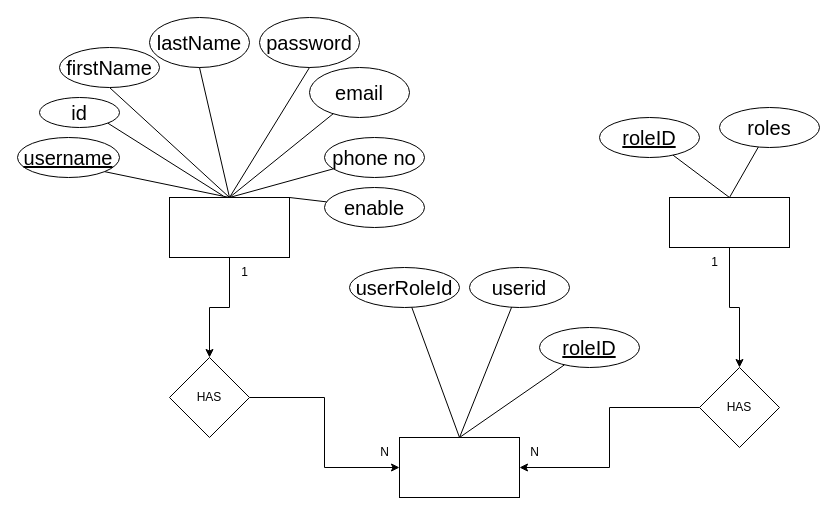
Image size: 837x515. Some labels were removed from this diagram. The shapes that lost their labels are listed below. From the top down, each one's centre as x and y in pixels, then its label:
At point 229,227: "USER".
At point 729,222: "ROLE".
At point 459,467: "userRoles".
